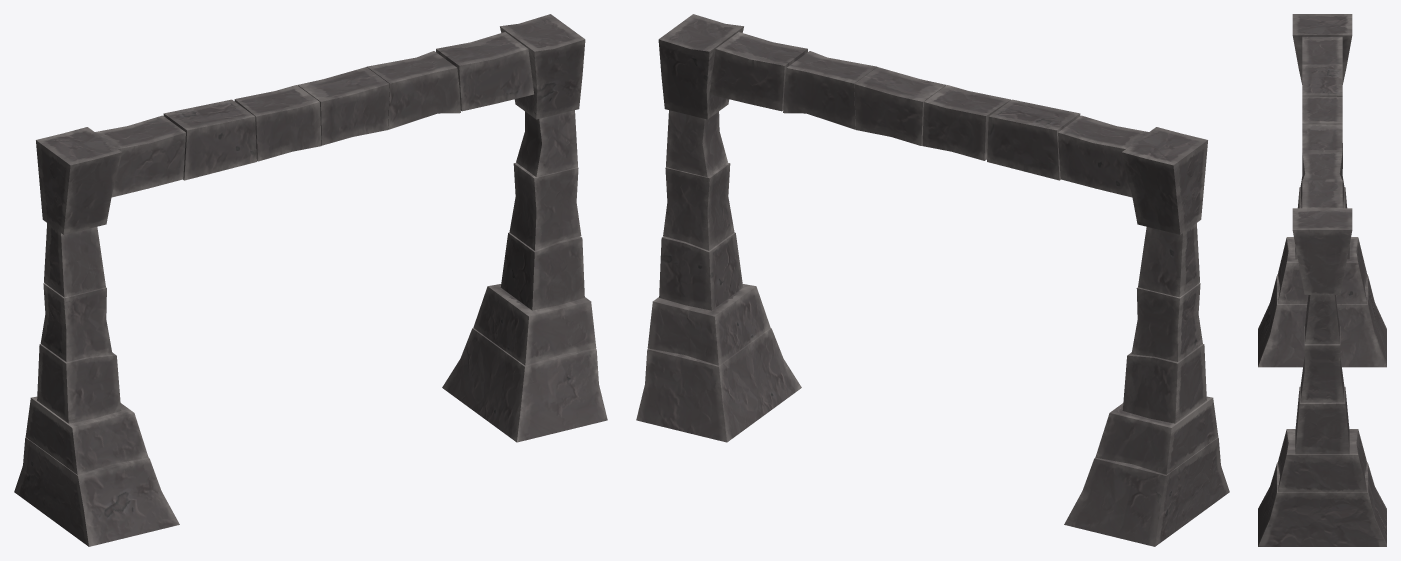
The model's file is Fbx_simple_Arch.fbx.
3 renders of one model, left to right at view 1: azimuth 30°, elevation 25°; view 2: azimuth 150°, elevation 25°; view 3: azimuth 270°, elevation 25°, orthographic. The views are drawn at different scales.
Visible parts, largest first — view 1: Cube.053; view 2: Cube.053; view 3: Cube.053.
Boxes of the visible parts, left/top/right/bottom form: Cube.053: left=14, top=14, right=607, bottom=546; Cube.053: left=636, top=14, right=1229, bottom=546; Cube.053: left=1258, top=14, right=1386, bottom=546.
Size of the model in its own units: 1245 by 843 by 311.
